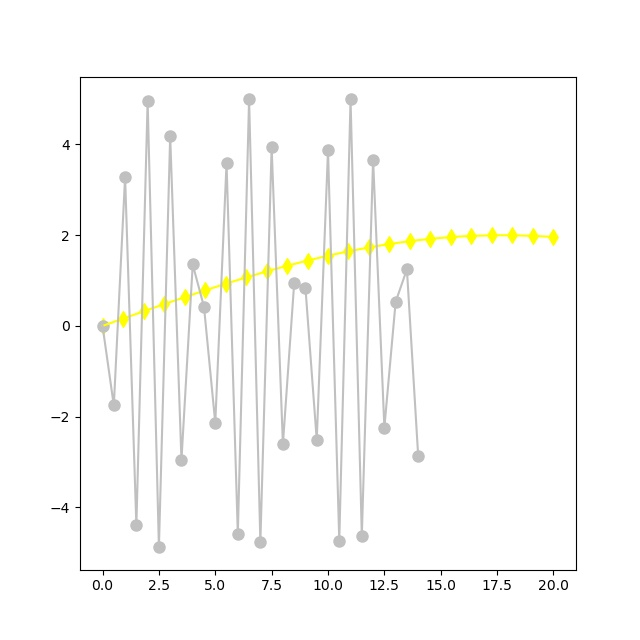circle: (97, 320, 110, 333), (108, 399, 121, 412), (119, 171, 132, 184), (130, 519, 143, 532), (142, 95, 155, 108), (153, 541, 166, 554), (164, 130, 177, 143), (175, 454, 188, 467), (187, 258, 200, 271), (198, 301, 211, 314), (209, 417, 222, 430), (221, 157, 234, 170), (232, 528, 245, 541), (243, 93, 256, 106), (254, 536, 267, 549), (266, 141, 279, 154), (277, 438, 290, 451), (288, 277, 301, 290), (299, 282, 312, 295), (311, 434, 324, 447), (322, 144, 335, 157), (333, 535, 346, 548), (345, 93, 358, 106), (356, 530, 369, 543), (367, 154, 380, 167), (378, 422, 391, 435), (390, 296, 403, 309), (401, 263, 414, 276), (412, 450, 425, 463)
thin_diamond: (97, 320, 110, 333), (117, 313, 130, 326), (138, 305, 151, 318), (158, 298, 171, 311), (179, 291, 192, 304), (199, 284, 212, 297), (220, 278, 233, 291), (240, 271, 253, 284), (261, 265, 274, 278), (281, 260, 294, 273), (302, 255, 315, 268), (322, 250, 335, 263), (342, 245, 355, 258), (363, 241, 376, 254), (383, 238, 396, 251), (404, 235, 417, 248), (424, 233, 437, 246), (445, 231, 458, 244), (465, 230, 478, 243), (486, 229, 499, 242), (506, 229, 519, 242), (527, 230, 540, 243), (547, 231, 560, 244)
